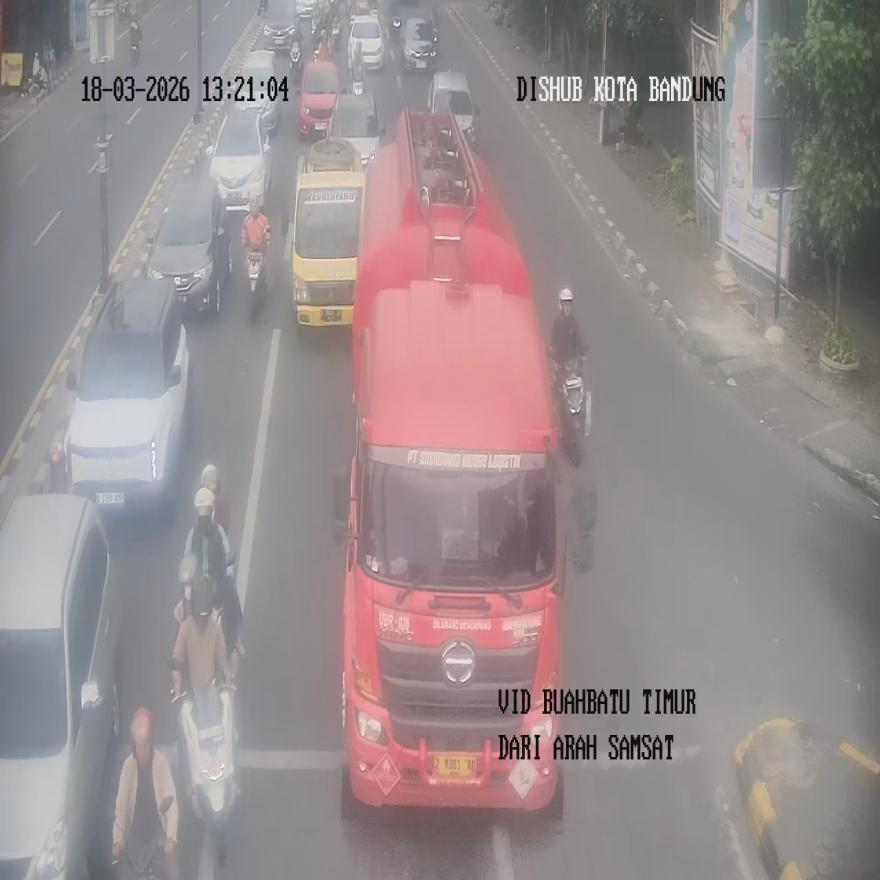Mobil: (0, 494, 120, 877), (64, 274, 189, 509), (146, 179, 230, 316), (208, 106, 270, 215), (427, 68, 479, 151), (328, 90, 383, 168)
Truk berat: (334, 106, 570, 811)
Truk ringan: (285, 138, 369, 326)
